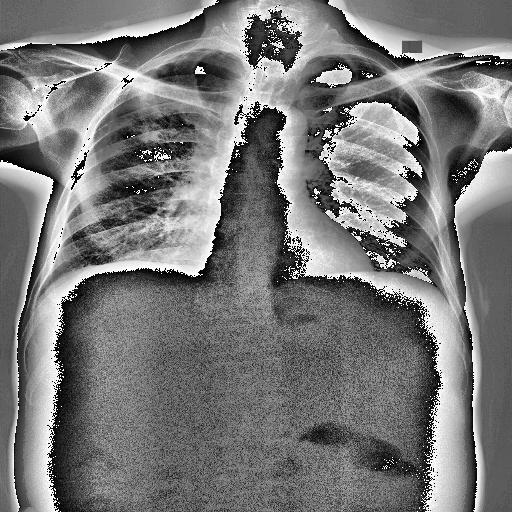0- Aortic enlargement: (256, 104, 308, 152)
11- Pleural thickening: (320, 52, 382, 68), (206, 48, 240, 60)
13- Pulmonary fibrosis: (96, 83, 198, 149), (100, 88, 206, 142)
6- Infiltration: (96, 83, 198, 149)
7- Lung Opacity: (119, 81, 165, 141)
